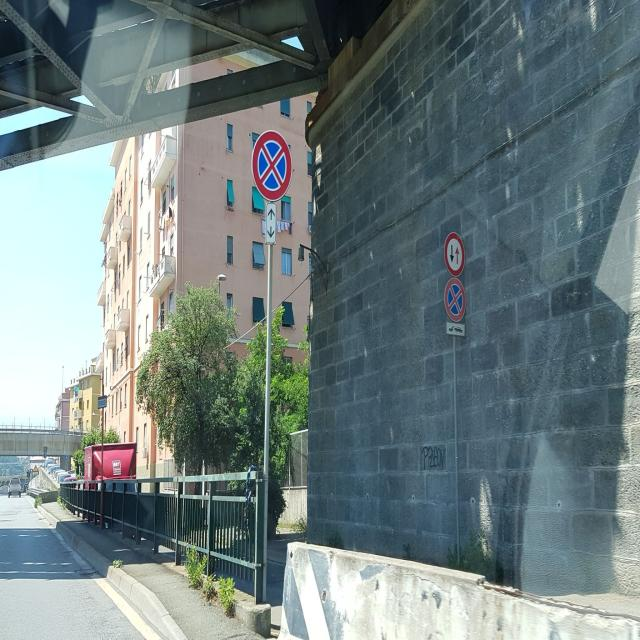car: (8, 477, 22, 498)
